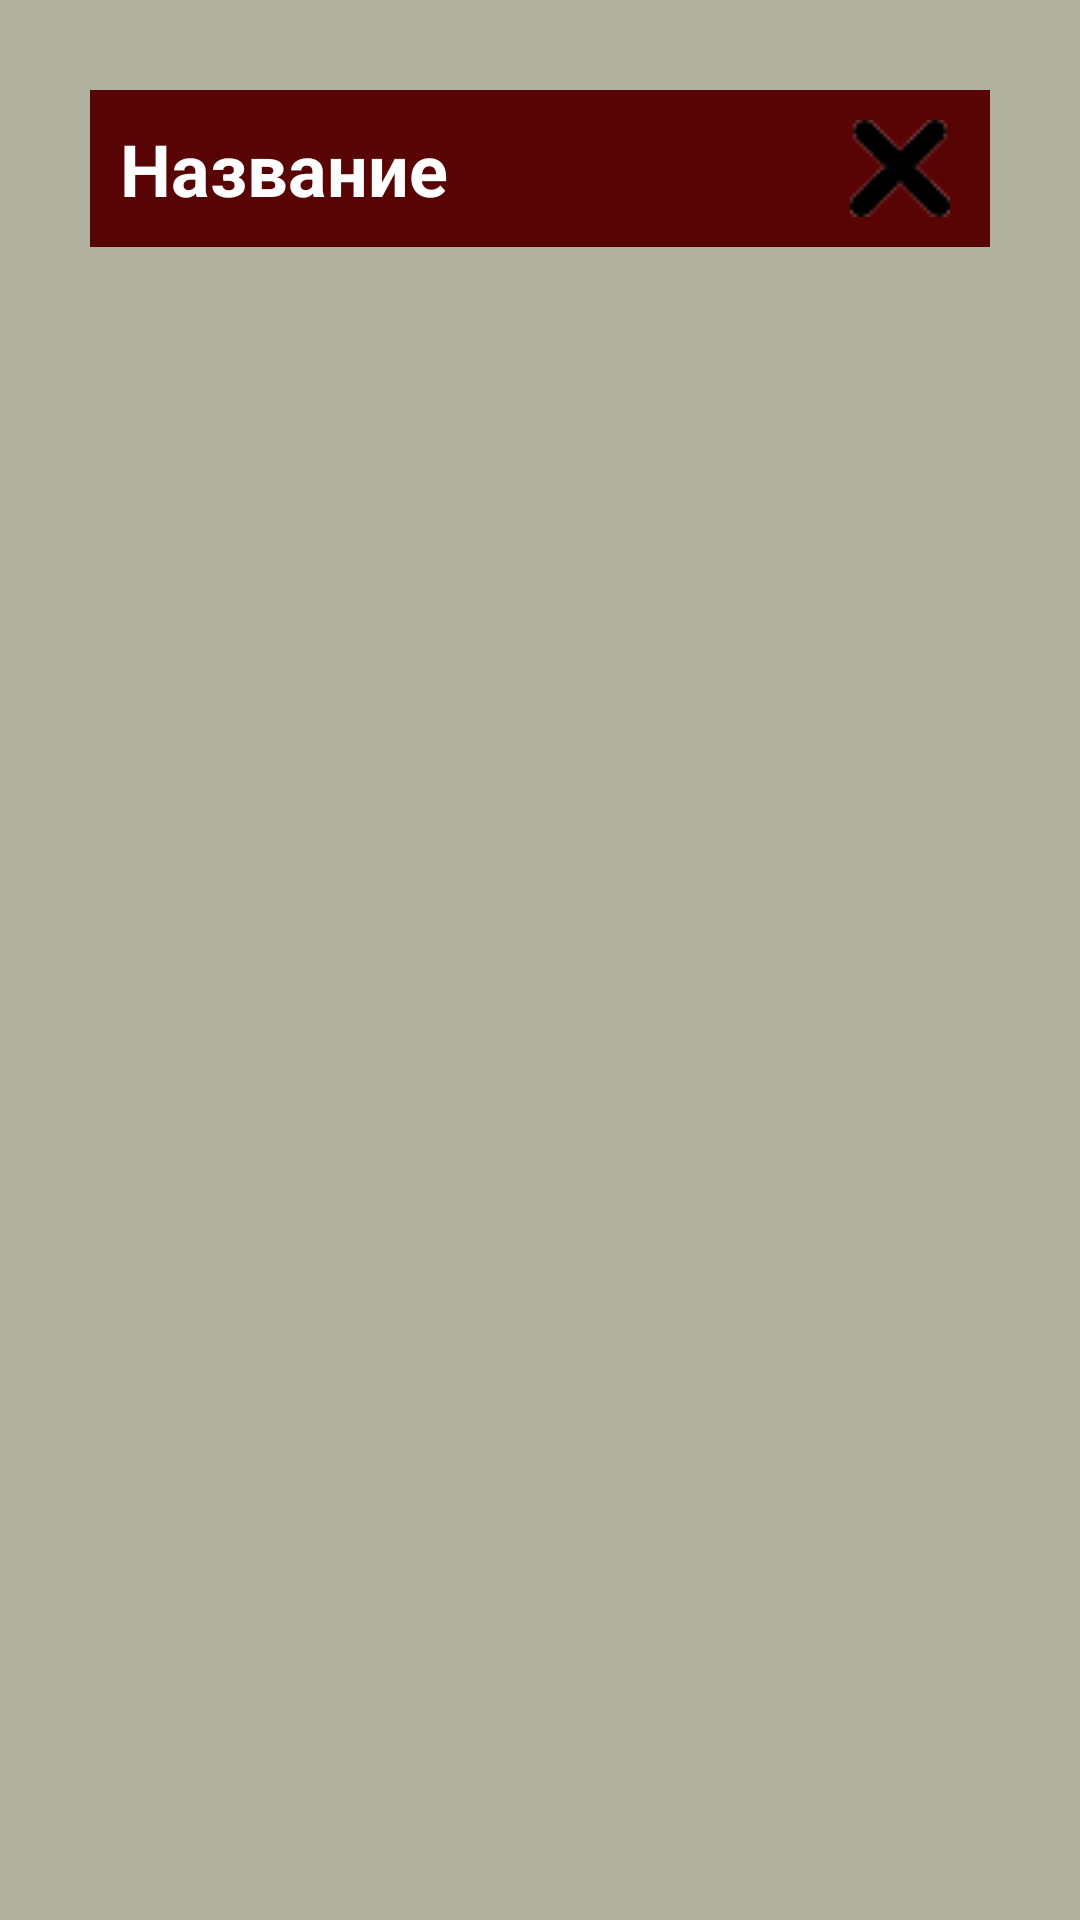

Screen size 1080×1920. Icon name, then its center in pixels as (x,y):
close: (900,168)
